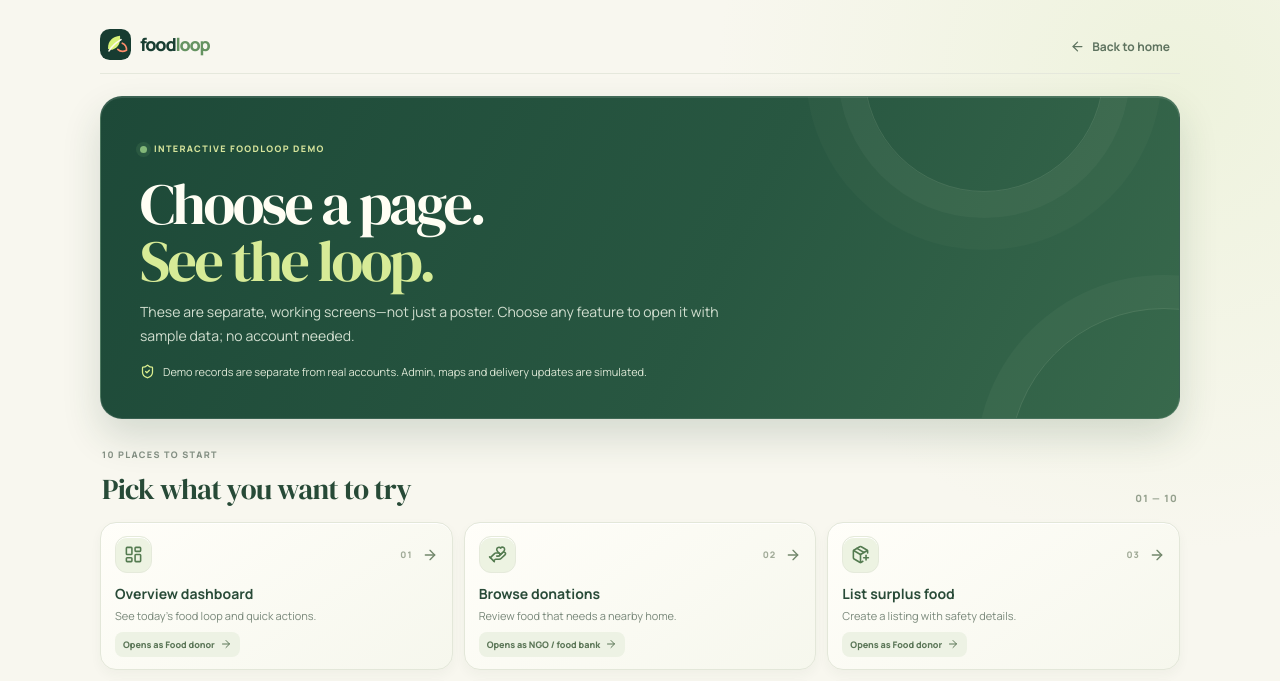
it: FoodLoop screen selection › opens List surplus food with the donor demo identity
The width and height of the screenshot is (1280, 681).
Click the button with aria-label "Open List surplus food as Food donor".
click(861, 555)  # box left=827, top=522, right=1180, bottom=670
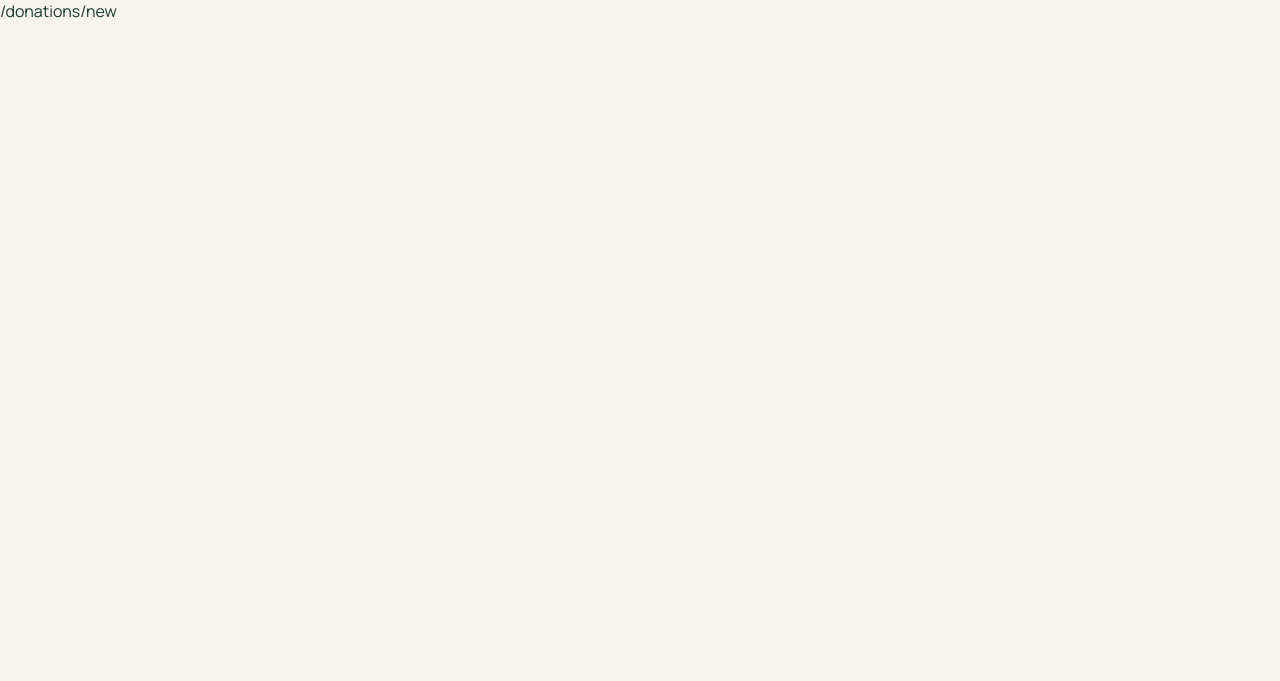
Expected: the text with test id "current-route" reads "/donations/new", left=0, top=0, right=117, bottom=22
